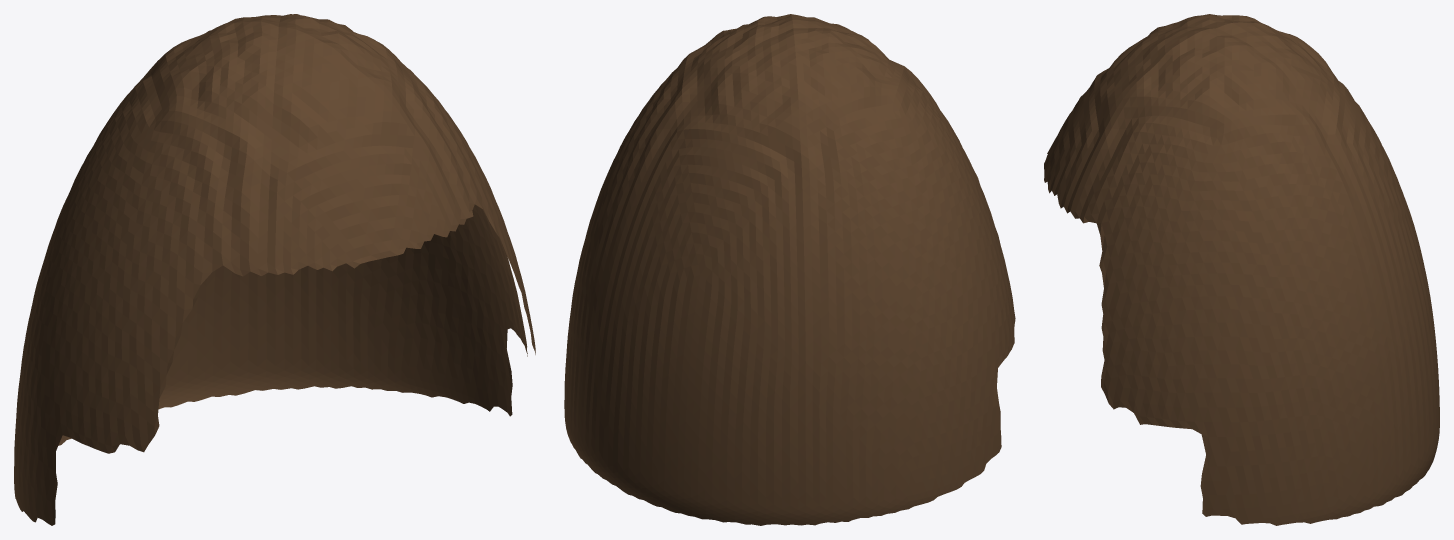
The model's file is default_hair.glb.
The picture shows the model from 3 angles, left to right: view 1: azimuth 30°, elevation 25°; view 2: azimuth 150°, elevation 25°; view 3: azimuth 270°, elevation 25°; orthographic projection. The views are drawn at different scales.
Parts seen in each view (by area): view 1: world; view 2: world; view 3: world.
Part boxes in pixels (x1,y1,x2,y2): world: (14, 14, 535, 525); world: (564, 14, 1015, 525); world: (1044, 14, 1439, 525).
Bounding box in the file's own units: 0.1979 × 0.1928 × 0.165.
